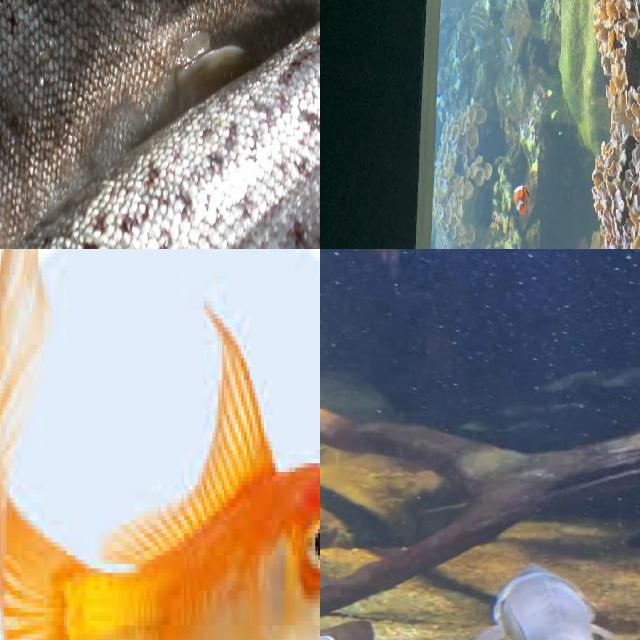fish: (0, 249, 320, 640), (0, 0, 320, 249), (468, 565, 628, 640), (511, 182, 531, 218)
